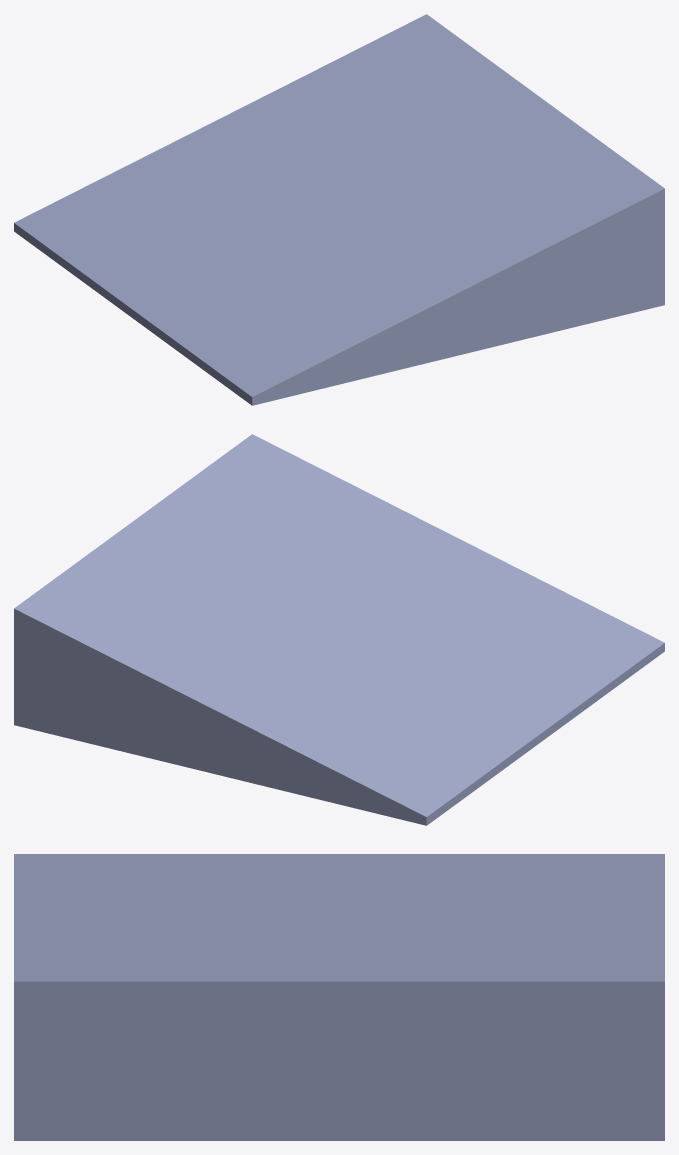
Rendered from tile-slant.glb.
The picture shows the model from 3 angles, top to bottom: view 1: azimuth 30°, elevation 25°; view 2: azimuth 150°, elevation 25°; view 3: azimuth 270°, elevation 25°; orthographic projection. The views are drawn at different scales.
Parts seen in each view (by area): view 1: tile-slant; view 2: tile-slant; view 3: tile-slant.
Boxes of the visible parts, x1,y1,x2,y2 form: tile-slant: [14, 14, 664, 405]; tile-slant: [14, 434, 664, 825]; tile-slant: [14, 854, 664, 1140].
Size of the model in its own units: 1 by 0.2701 by 1.
1 material, 1 textured.
